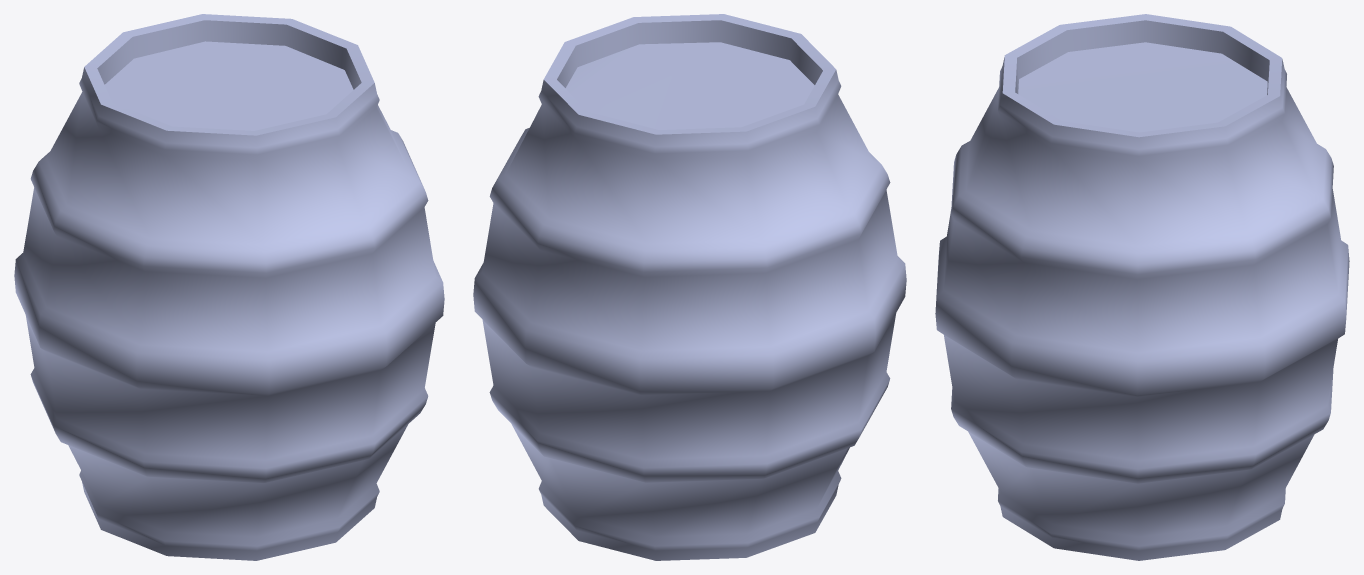
3 views of the same model, side by side, from view 1: azimuth 30°, elevation 25°; view 2: azimuth 150°, elevation 25°; view 3: azimuth 270°, elevation 25° (orthographic).
Parts seen in each view (by area): view 1: Object_2; view 2: Object_2; view 3: Object_2.
Part boxes in pixels (x1,y1,x2,y2): Object_2: [14, 14, 444, 560]; Object_2: [473, 14, 906, 560]; Object_2: [935, 14, 1349, 560].
Size of the model in its own units: 0.9242 by 1 by 0.8857.
